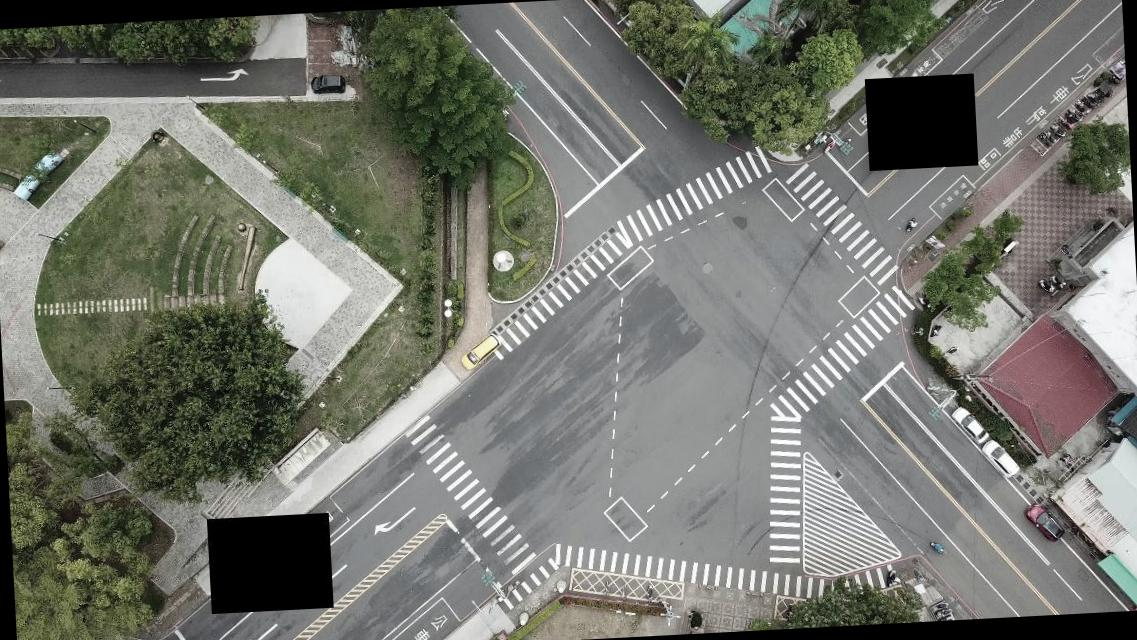vehicle: (1022, 501, 1062, 544), (458, 332, 502, 370), (980, 438, 1020, 478), (949, 403, 987, 444), (310, 74, 346, 96)
